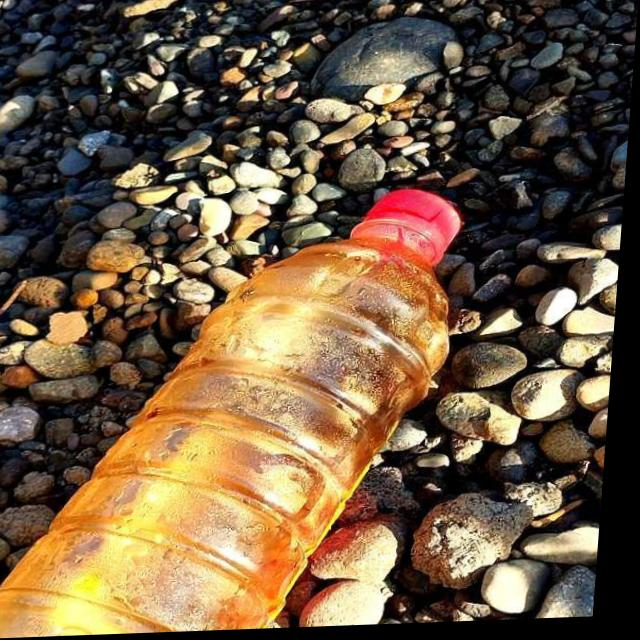Non-biodegradable: (1, 193, 475, 640)
